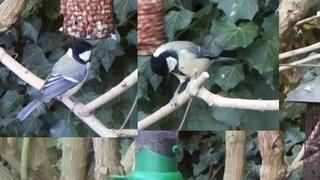great tit: (16, 40, 98, 122), (150, 40, 239, 108)
